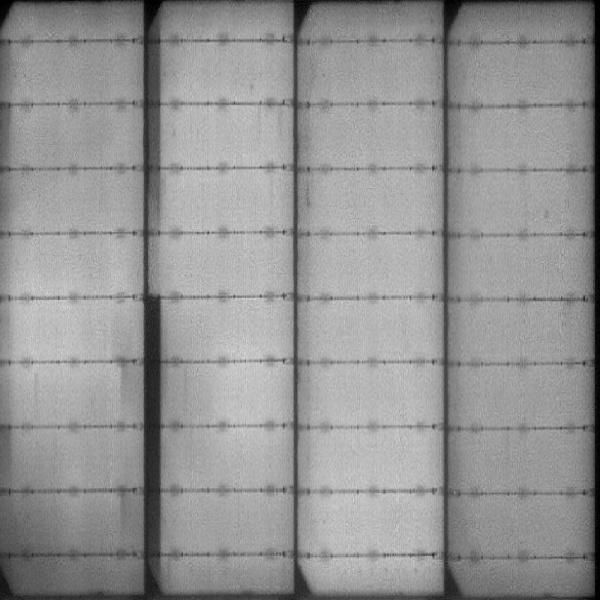black_border: (140, 290, 164, 575), (141, 26, 163, 230)
